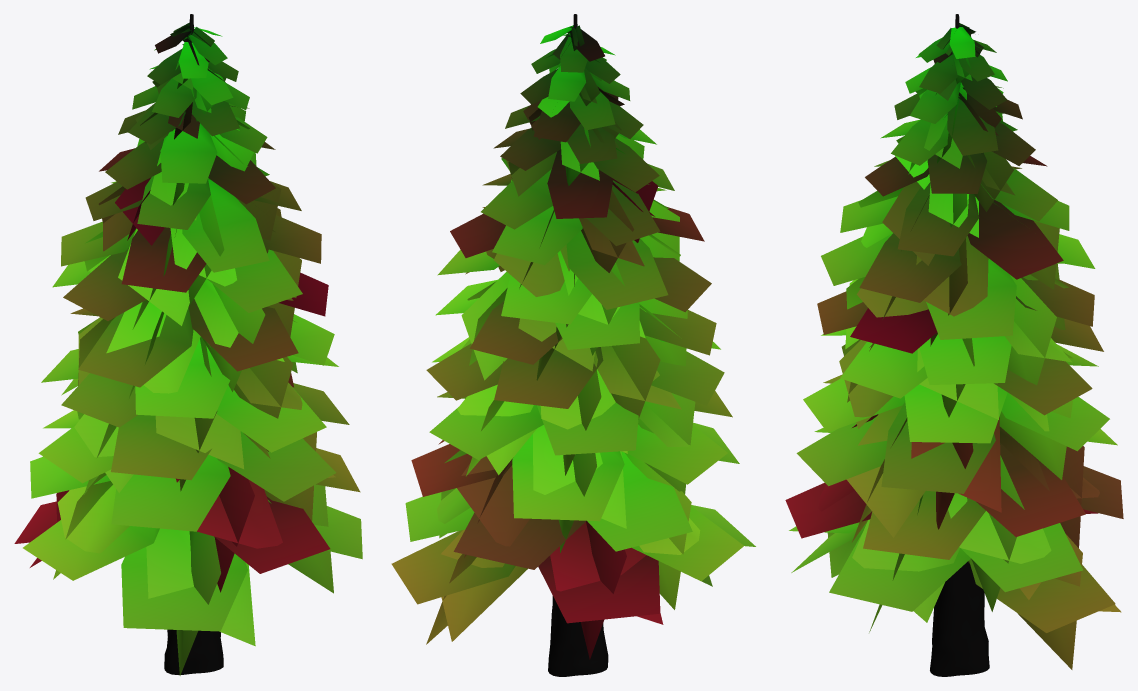
The model's file is Pine_1.fbx.
3 views of the same model, side by side, from view 1: azimuth 30°, elevation 25°; view 2: azimuth 150°, elevation 25°; view 3: azimuth 270°, elevation 25° (orthographic).
Visible parts, largest first — view 1: Pine_1; view 2: Pine_1; view 3: Pine_1.
Part boxes in pixels (bbox=[...]): Pine_1: bbox=[14, 14, 362, 675]; Pine_1: bbox=[391, 14, 755, 676]; Pine_1: bbox=[785, 14, 1123, 676].
Bounding box in the file's own units: 594 × 1251 × 589.
